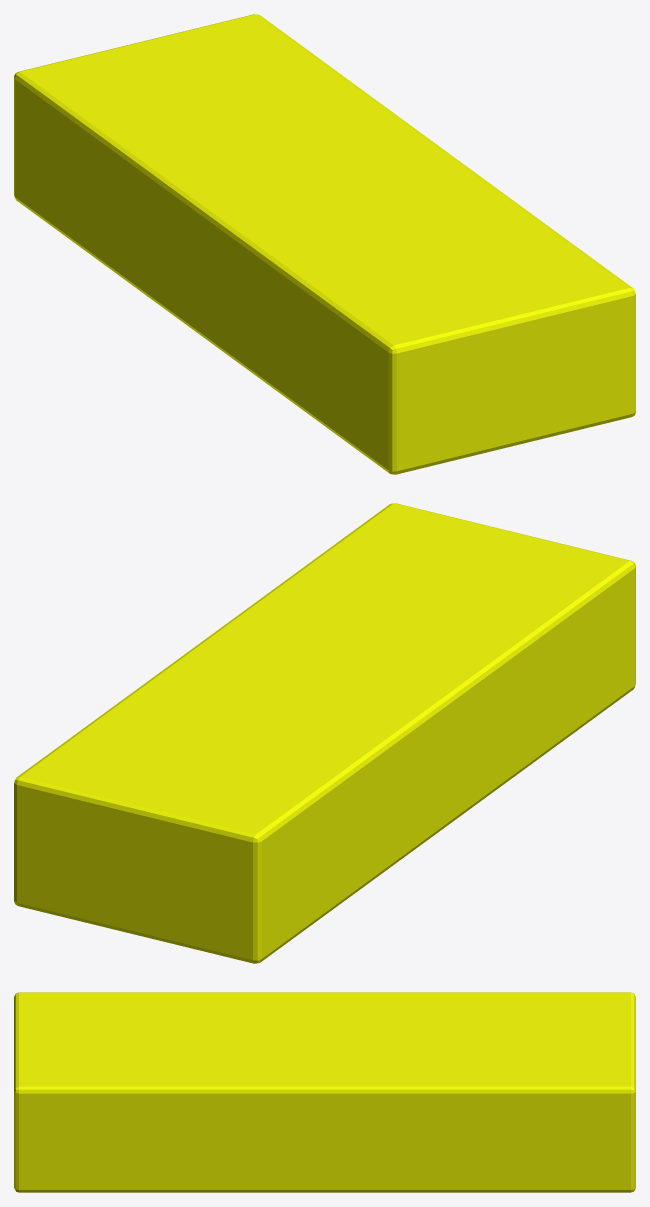
Rendered from Power_Supply.fbx.
The picture shows the model from 3 angles, top to bottom: view 1: azimuth 30°, elevation 25°; view 2: azimuth 150°, elevation 25°; view 3: azimuth 270°, elevation 25°; orthographic projection. The views are drawn at different scales.
Visible parts, largest first — view 1: Power Supply; view 2: Power Supply; view 3: Power Supply.
Boxes of the visible parts, x1,y1,x2,y2 form: Power Supply: (14,14,635,474); Power Supply: (14,503,635,963); Power Supply: (14,992,635,1192).
Bounding box in the file's own units: 30 × 15 × 80.
